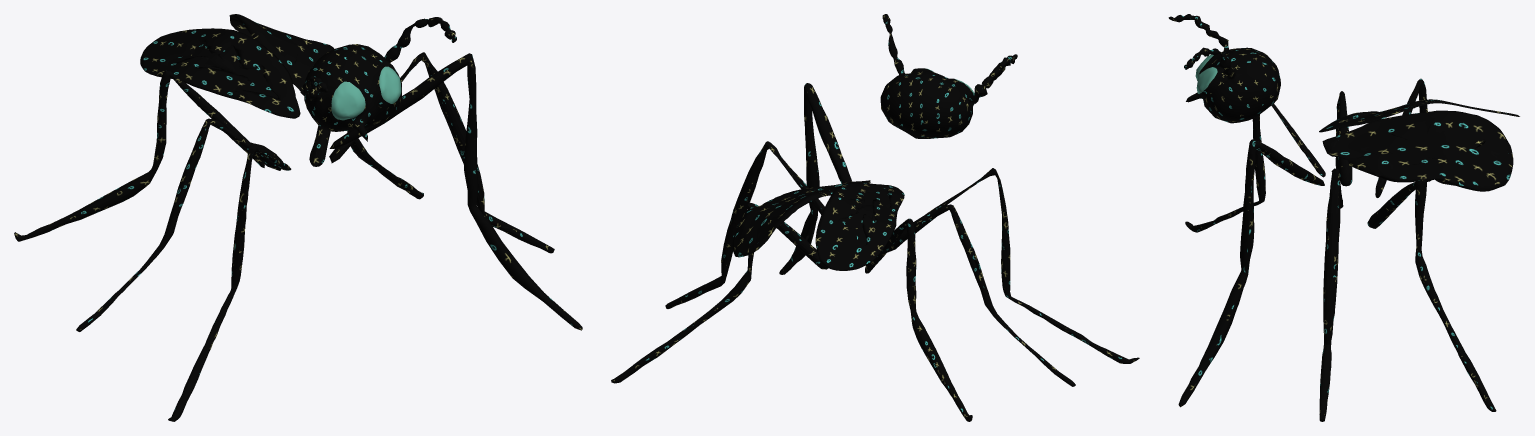
The model's file is ch12_mosquito.glb.
The picture shows the model from 3 angles, left to right: view 1: azimuth 30°, elevation 25°; view 2: azimuth 150°, elevation 25°; view 3: azimuth 270°, elevation 25°; orthographic projection. The views are drawn at different scales.
Parts seen in each view (by area): view 1: _r121, _h12, _b121, _b126, _b122, _r122, _b124, _b123, _b125; view 2: _h12, _r121, _b121, _r122, _b126, _b123, _b125, _b122, _b124; view 3: _r122, _h12, _b121, _b123, _b125, _b122, _r121, _b124, _b126.
Boxes of the visible parts, x1,y1,x2,y2 form: _r121: [140, 28, 300, 118]; _h12: [303, 17, 456, 141]; _b121: [329, 53, 582, 330]; _b126: [14, 70, 264, 241]; _b122: [168, 144, 291, 421]; _r122: [229, 14, 334, 95]; _b124: [76, 118, 283, 331]; _b123: [329, 52, 554, 253]; _b125: [309, 125, 423, 199]; _h12: [880, 14, 1017, 138]; _r121: [815, 183, 904, 270]; _b121: [779, 83, 852, 274]; _r122: [732, 180, 870, 257]; _b126: [865, 218, 972, 421]; _b123: [665, 141, 824, 308]; _b125: [611, 202, 828, 383]; _b122: [906, 168, 1139, 363]; _b124: [887, 204, 1075, 386]; _r122: [1322, 110, 1513, 191]; _h12: [1168, 14, 1280, 123]; _b121: [1178, 139, 1324, 407]; _b123: [1319, 168, 1343, 421]; _b125: [1367, 179, 1496, 411]; _b122: [1185, 104, 1325, 232]; _r121: [1319, 99, 1519, 132]; _b124: [1335, 91, 1352, 186]; _b126: [1375, 78, 1454, 197].
Size of the model in its own units: 1.7 by 1.16 by 1.23.
Materials: 2 (1 with a texture image).
